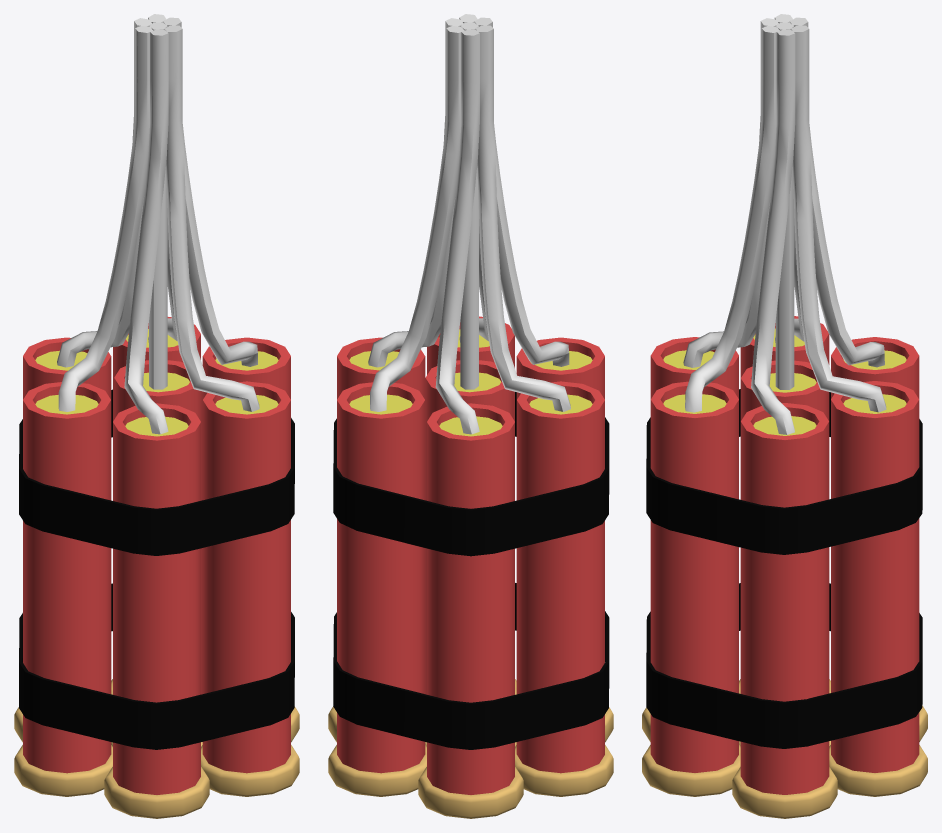
File: dinamite.fbx
3 views of the same model, side by side, from view 1: azimuth 30°, elevation 25°; view 2: azimuth 150°, elevation 25°; view 3: azimuth 270°, elevation 25° (orthographic).
Parts seen in each view (by area): view 1: candelotti; view 2: candelotti; view 3: candelotti.
Boxes of the visible parts, x1,y1,x2,y2 form: candelotti: [14, 14, 299, 818]; candelotti: [328, 14, 613, 818]; candelotti: [642, 14, 927, 818].
Size of the model in its own units: 90.45 by 232 by 82.41.
